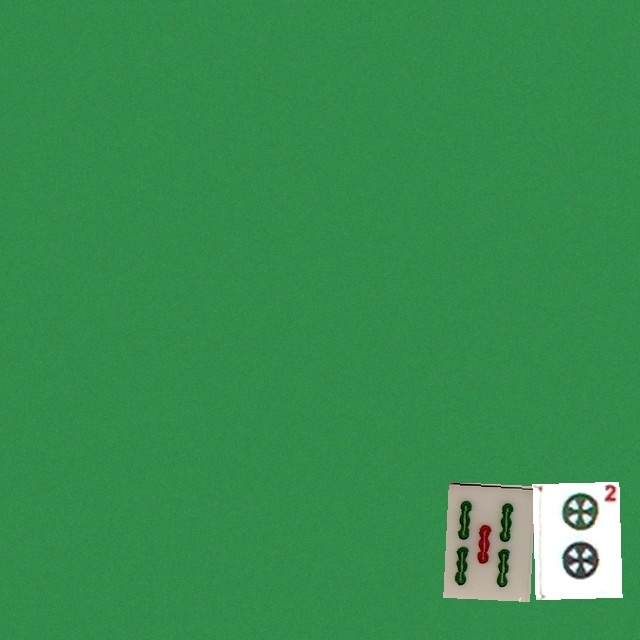tile: (443, 481, 530, 597), (532, 481, 619, 597)
